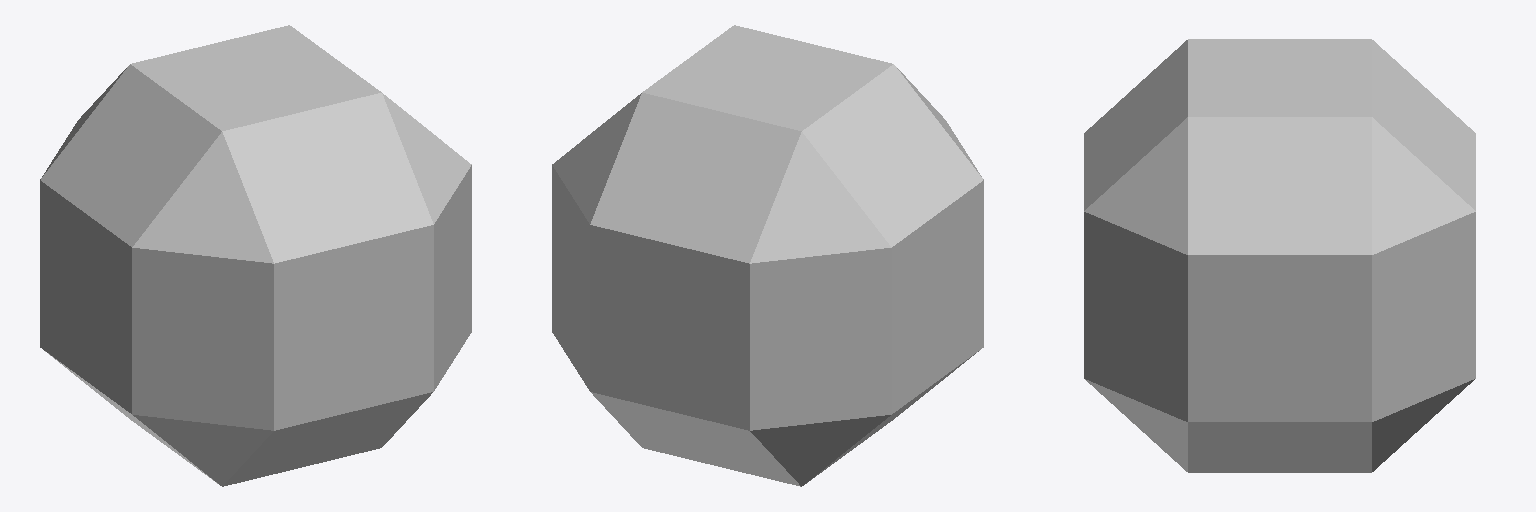
Rendered from Objet.obj.
3 renders of one model, left to right at view 1: azimuth 30°, elevation 25°; view 2: azimuth 150°, elevation 25°; view 3: azimuth 270°, elevation 25°, orthographic.
Parts seen in each view (by area): view 1: Cube; view 2: Cube; view 3: Cube.
Part boxes in pixels (left/top/right/bottom): Cube: left=40, top=25, right=471, bottom=486; Cube: left=552, top=25, right=983, bottom=486; Cube: left=1084, top=39, right=1475, bottom=472.
Size of the model in its own units: 2 by 2 by 2.